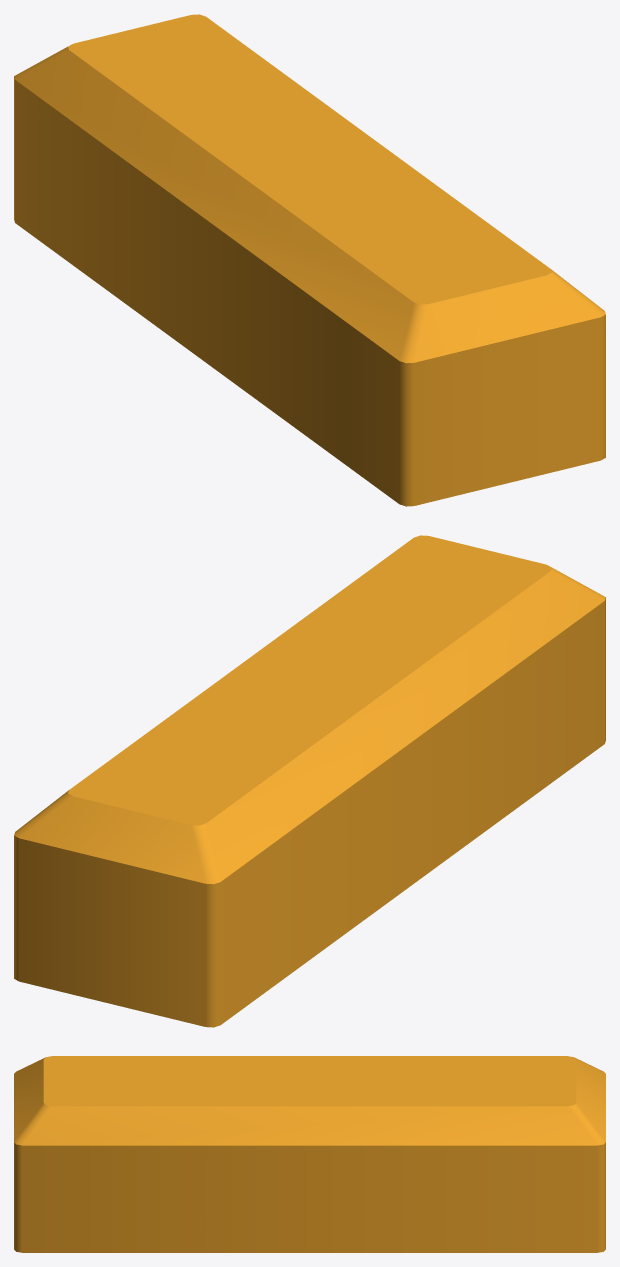
File: Gold_bar_pieces.fbx
3 renders of one model, top to bottom at view 1: azimuth 30°, elevation 25°; view 2: azimuth 150°, elevation 25°; view 3: azimuth 270°, elevation 25°, orthographic. The views are drawn at different scales.
Visible parts, largest first — view 1: Gold_piece_top, Gold_piece_bottom; view 2: Gold_piece_top, Gold_piece_bottom; view 3: Gold_piece_top, Gold_piece_bottom.
Part boxes in pixels (x1,y1,x2,y2): Gold_piece_top: (14,14,605,385); Gold_piece_bottom: (14,99,605,506); Gold_piece_top: (14,535,605,906); Gold_piece_bottom: (14,620,605,1027); Gold_piece_top: (14,1056,605,1162); Gold_piece_bottom: (14,1159,605,1252).
Size of the model in its own units: 600 by 500 by 2000.
